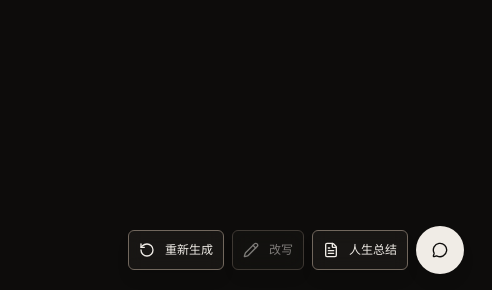
it: ChatBar › Chat functionality › displays AI response in chat history
Click the button named "打开聊天": (440, 250) x1=416 y1=226 x2=464 y2=274
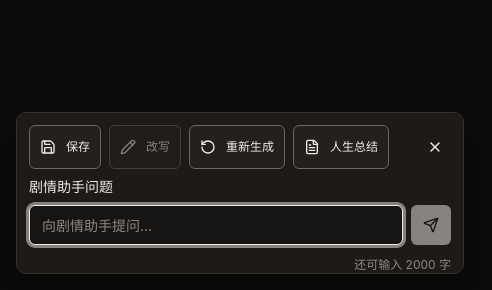
Expected: the field with placeholder "向剧情助手提问..." is shown
In the field with placeholder "向剧情助手提问...": (216, 225) x1=29 y1=205 x2=403 y2=245, type "Test"
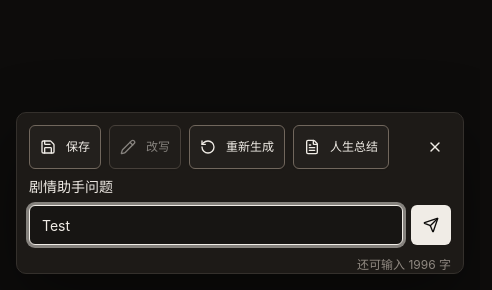
Press Enter in the field with placeholder "向剧情助手提问...", box x1=29 y1=205 x2=403 y2=245
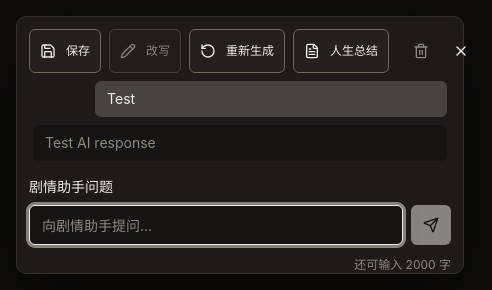
Expected: the text "Test AI response" is shown, x1=45 y1=134 x2=156 y2=151
